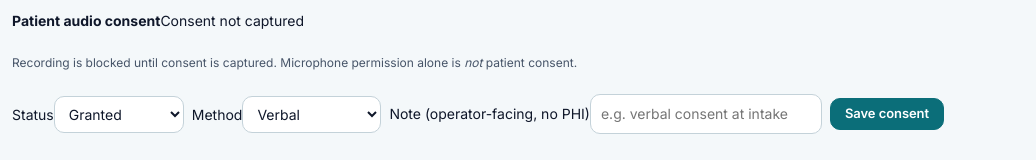
Test case: AudioConsentPanel › clinician can submit consent and the parent receives the granted state
Expected: the form with test id "audio-consent-form" is shown, [12,94,1035,134]
What coordinates should you click on to do the following:
click the button with test id "audio-consent-submit"
I would click on:
 (887, 114)
Its box is [830,98,944,130].
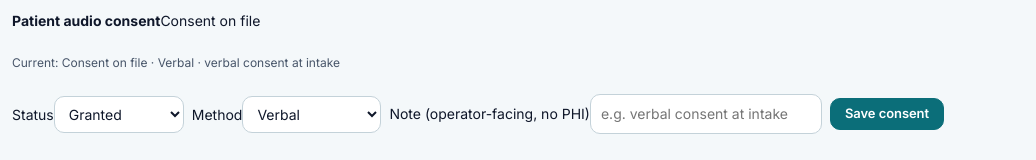
Result: the message with test id "audio-consent-blocked" is gone
